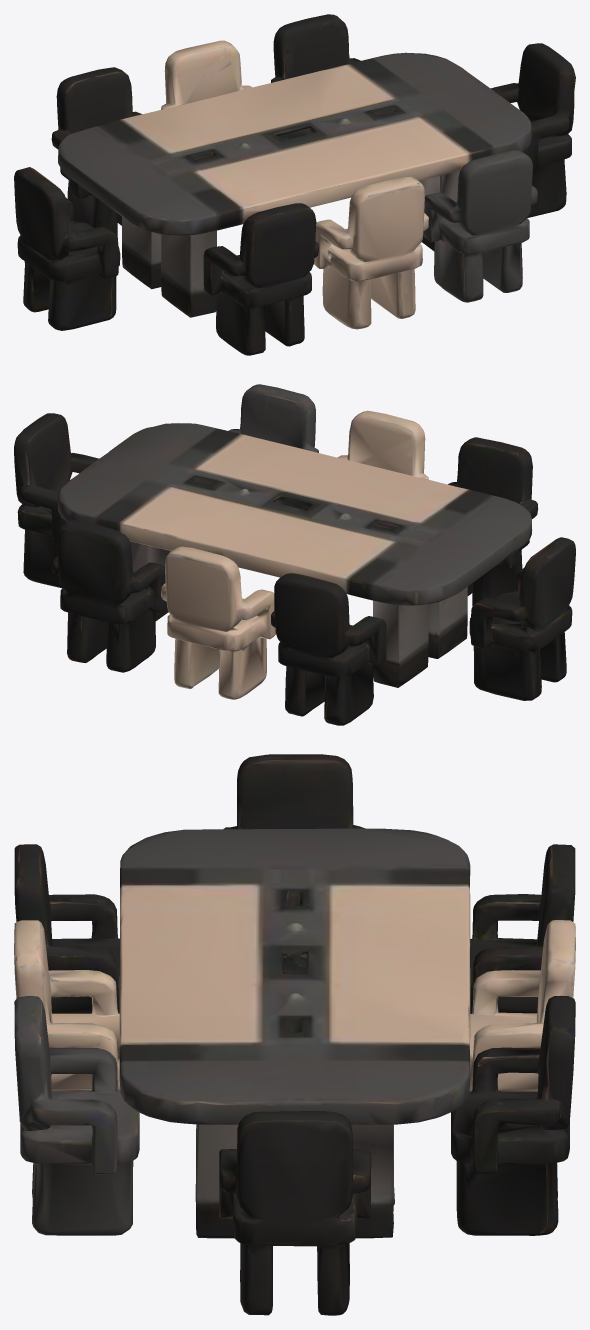
Rendered from meeting_table.glb.
3 views of the same model, one above another, from view 1: azimuth 30°, elevation 25°; view 2: azimuth 150°, elevation 25°; view 3: azimuth 270°, elevation 25° (orthographic). The views are drawn at different scales.
Visible parts, largest first — view 1: geometry_0; view 2: geometry_0; view 3: geometry_0.
Boxes of the visible parts, box(x1,y1,x2,y2) form: geometry_0: box(14, 14, 575, 355); geometry_0: box(14, 384, 575, 725); geometry_0: box(14, 754, 575, 1315).
Bounding box in the file's own units: 1 × 0.2627 × 0.6458.
1 material, 1 textured.
